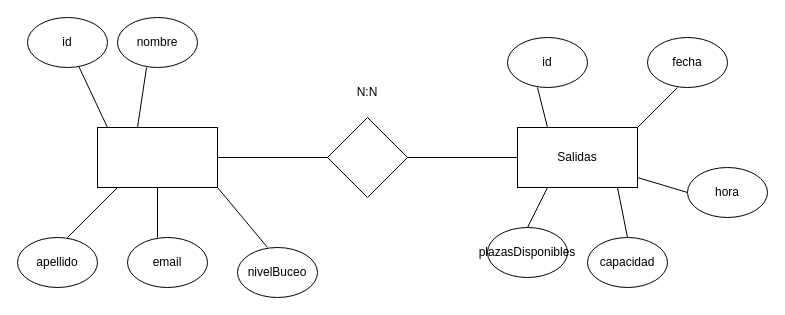
Some shapes in this 785 by 315 pixel diagram are drawn without their labels. The centre of each missing label's shape, as x and y in pixels:
Reserva: point (367, 157)
Usuario: point (157, 157)
